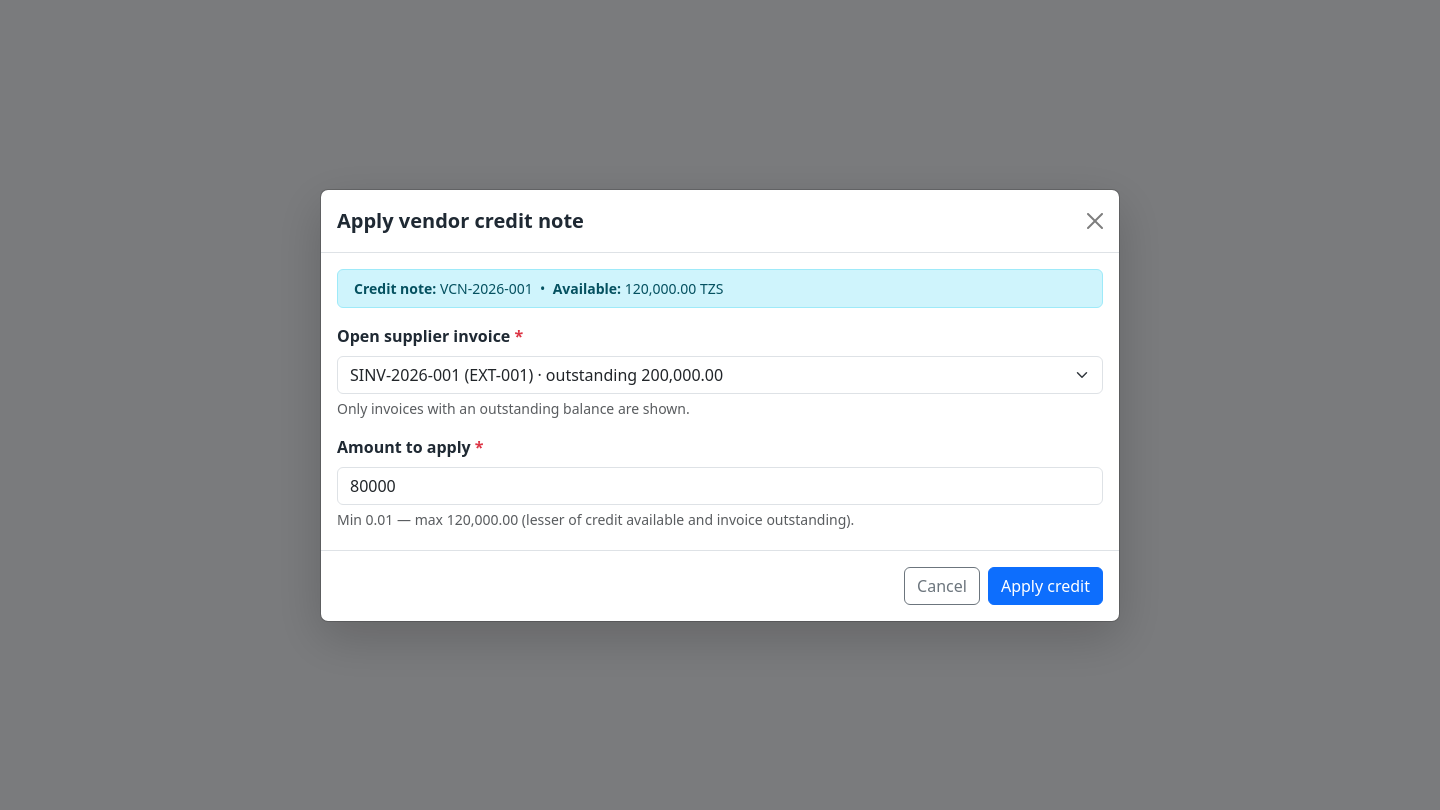
VendorCreditNoteApplyModalComponent › successful submission › shows partial message when status is PARTIALLY_ALLOCATED
Click the submit button: (1045, 586) [988,566,1103,604]
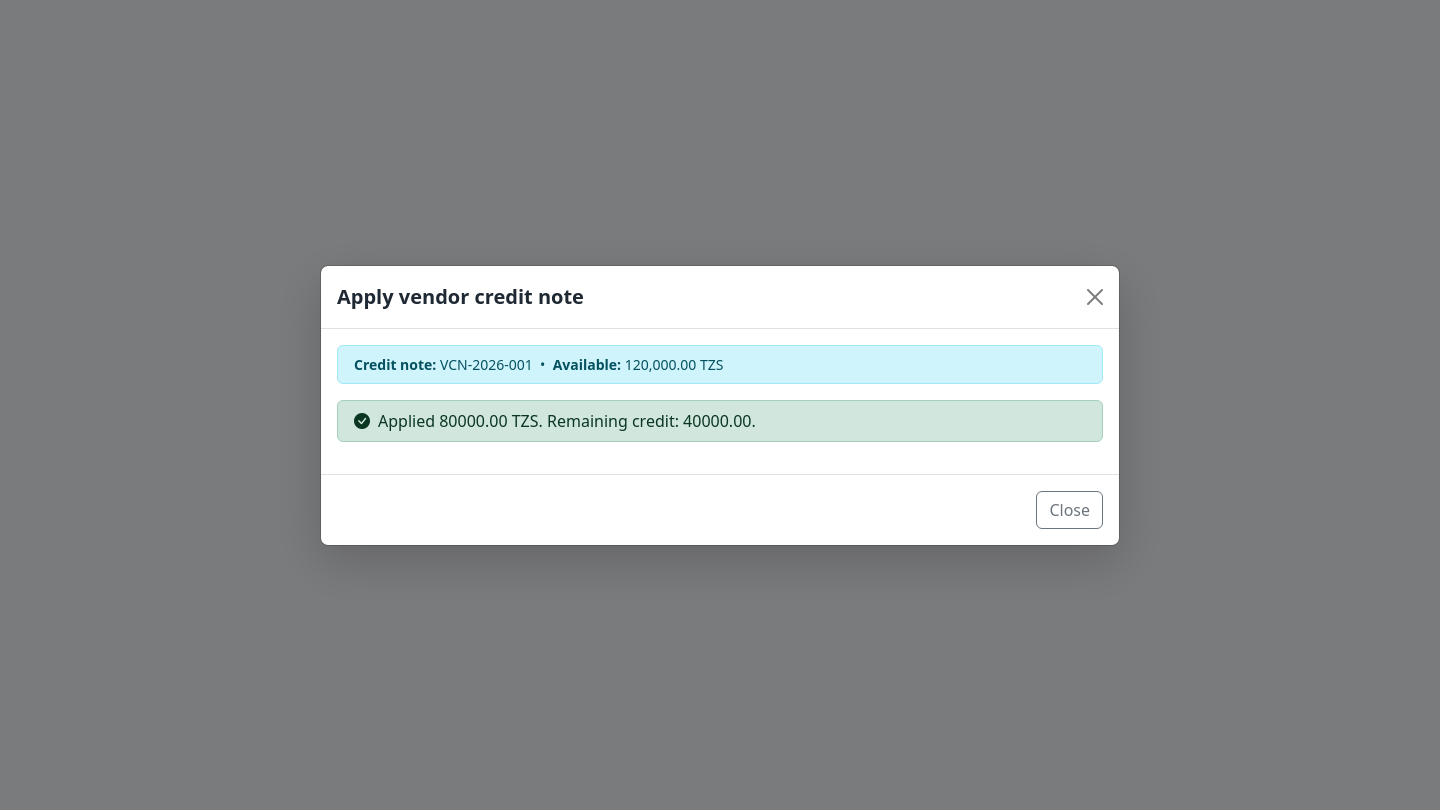
Check: the text "40" is shown, box [378,410,756,432]
